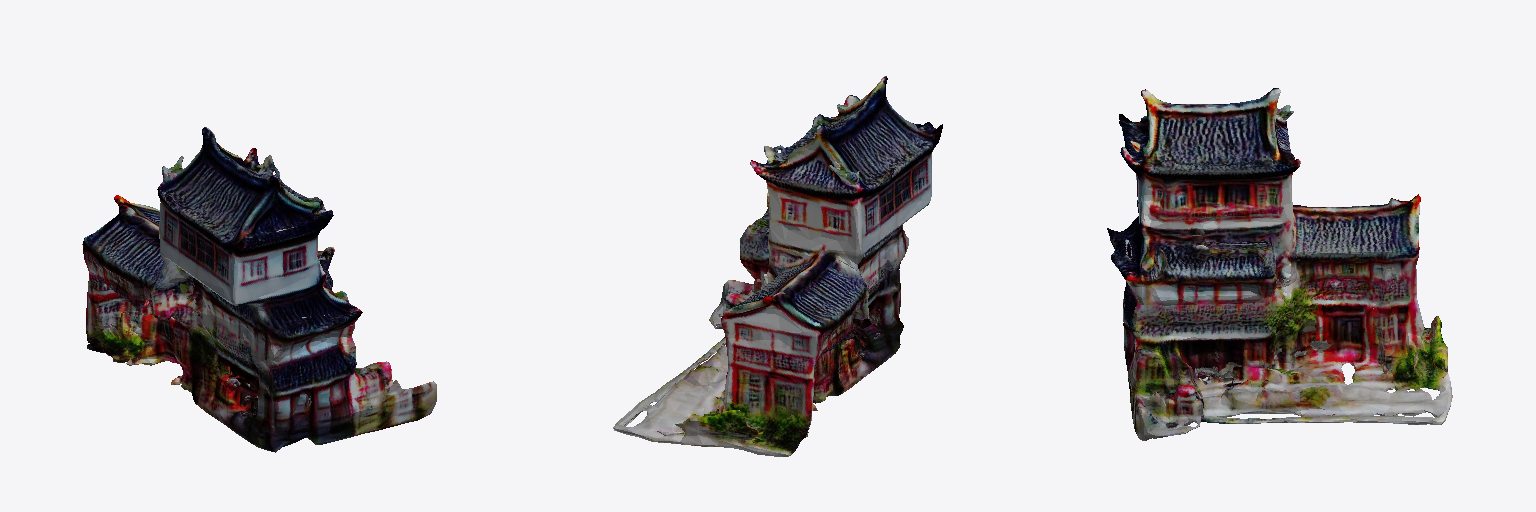
3 renders of one model, left to right at view 1: azimuth 30°, elevation 25°; view 2: azimuth 150°, elevation 25°; view 3: azimuth 270°, elevation 25°, orthographic.
Visible parts, largest first — view 1: mesh; view 2: mesh; view 3: mesh.
Boxes of the visible parts, <box> form: mesh: <box>82,127,436,452</box>; mesh: <box>613,76,942,456</box>; mesh: <box>1107,88,1452,440</box>.
Size of the model in its own units: 0.7566 by 0.9094 by 1.
Materials: 1 (1 with a texture image).